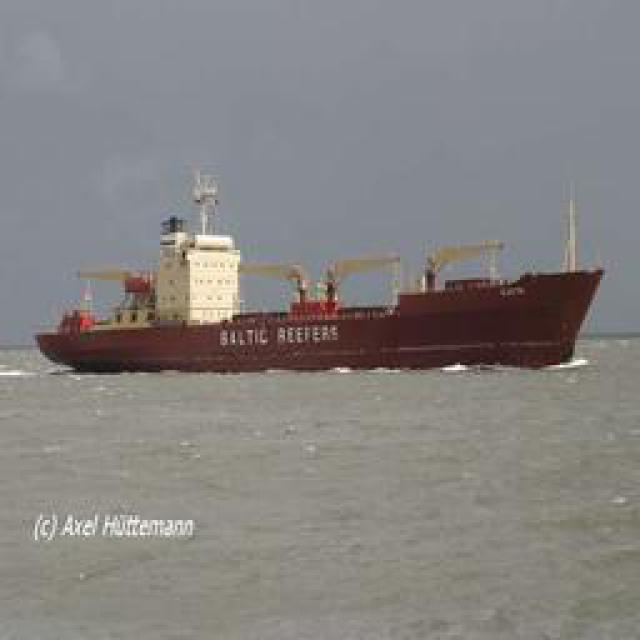Ship: (38, 267, 606, 375)
